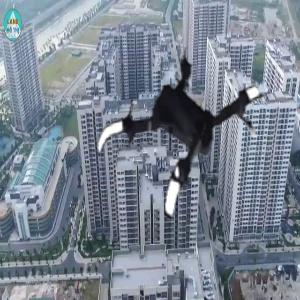drone: (91, 29, 286, 224)
